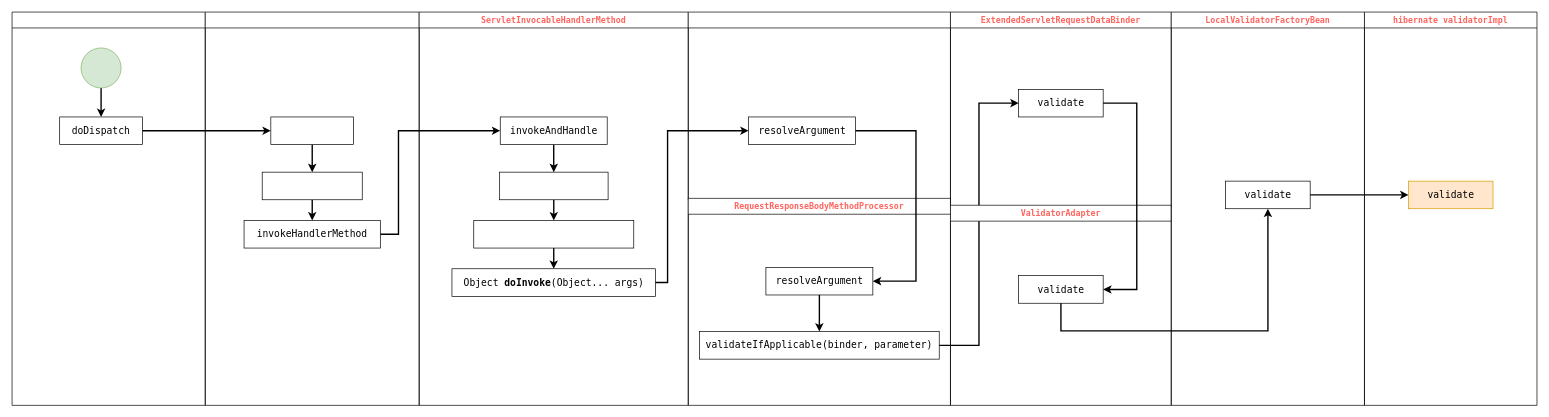
Some shapes in this 1549 by 417 pixel diagram are drawn without their labels. Each missing label, with the box of its shape:
DispatcherServlet: (11, 11, 205, 405)
getMethodArgumentValues: (473, 220, 634, 248)
handle: (270, 116, 354, 145)
handleInternal: (262, 171, 362, 200)
HandlerMethodArgumentResolverComposite: (688, 11, 950, 200)
invokeForRequest: (499, 171, 608, 200)
RequestMappingHandlerAdapter: (205, 11, 419, 405)
开始: (80, 47, 121, 88)
